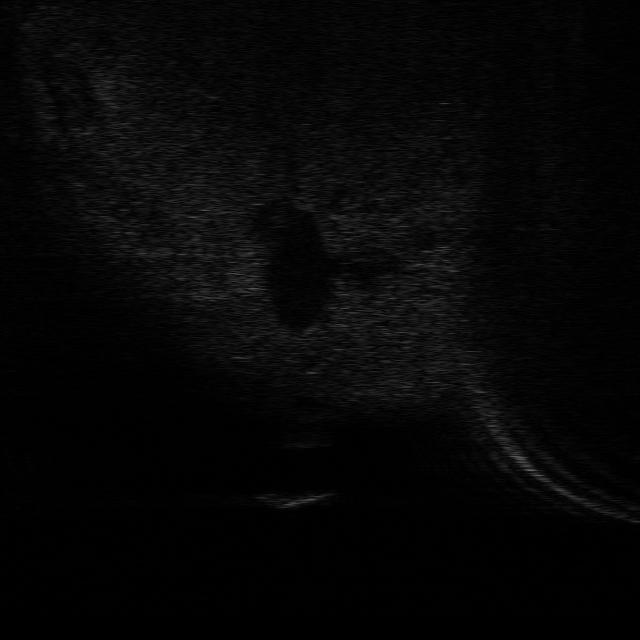cube: (252, 488, 342, 511)
